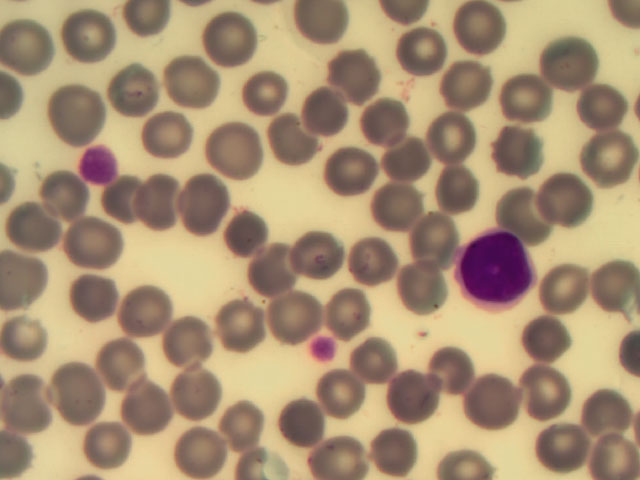Platelets: (78, 145, 120, 187), (307, 337, 341, 362)
RBC: (2, 14, 57, 74), (55, 7, 110, 67), (201, 9, 256, 69), (165, 57, 220, 117), (115, 54, 170, 114), (52, 77, 107, 137), (136, 108, 191, 168), (196, 110, 251, 170), (237, 75, 292, 135), (265, 114, 320, 174), (291, 76, 346, 136), (334, 39, 389, 99), (403, 17, 458, 77), (449, 46, 504, 106), (490, 60, 545, 120), (545, 31, 600, 91), (497, 120, 552, 180), (426, 107, 481, 167), (375, 130, 430, 190), (366, 94, 421, 154), (310, 152, 365, 212), (363, 174, 418, 234), (426, 150, 481, 210), (411, 209, 466, 269), (399, 262, 454, 322), (352, 234, 407, 294), (292, 231, 347, 291), (241, 243, 296, 303), (228, 205, 283, 265), (186, 176, 241, 236), (130, 170, 185, 230), (99, 172, 154, 232), (34, 165, 89, 225), (12, 189, 67, 249), (63, 211, 118, 271), (71, 266, 126, 326), (119, 277, 174, 337), (99, 336, 154, 396), (60, 360, 115, 420), (8, 373, 63, 433), (82, 420, 137, 480), (115, 384, 170, 444), (178, 370, 233, 430), (160, 316, 215, 376), (222, 295, 277, 355), (272, 285, 327, 345), (334, 271, 389, 331), (354, 324, 409, 384), (313, 371, 368, 431), (274, 393, 329, 453), (215, 388, 270, 448), (184, 420, 239, 480), (316, 420, 371, 480), (360, 420, 415, 480), (386, 370, 441, 430), (426, 347, 481, 407), (464, 370, 519, 430), (519, 359, 574, 419), (518, 317, 573, 377), (544, 266, 599, 326), (585, 257, 640, 317), (498, 187, 553, 247), (535, 175, 590, 235), (578, 129, 633, 189), (578, 75, 633, 135), (576, 380, 631, 440), (532, 420, 587, 480), (585, 420, 640, 480), (441, 1, 496, 60)
WBC: (455, 227, 541, 310)
